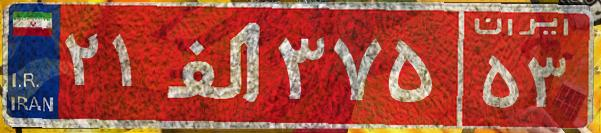1: (110, 28, 158, 105)
2: (57, 26, 110, 107)
3: (273, 28, 330, 110), (525, 38, 570, 115)
5: (385, 28, 445, 110), (475, 38, 525, 113)
7: (330, 28, 385, 110)
الف: (158, 15, 273, 115)
